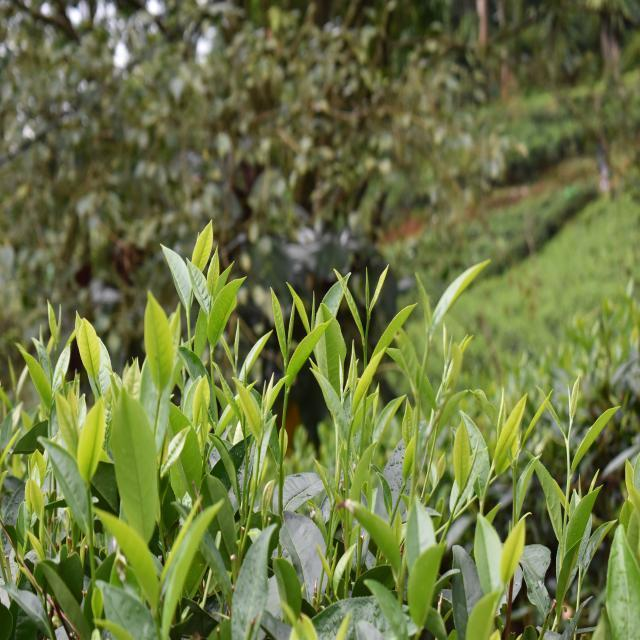Stem: (424, 346, 430, 358), (565, 440, 569, 454), (363, 344, 367, 355), (186, 305, 190, 315), (284, 363, 287, 375), (210, 351, 213, 361)
